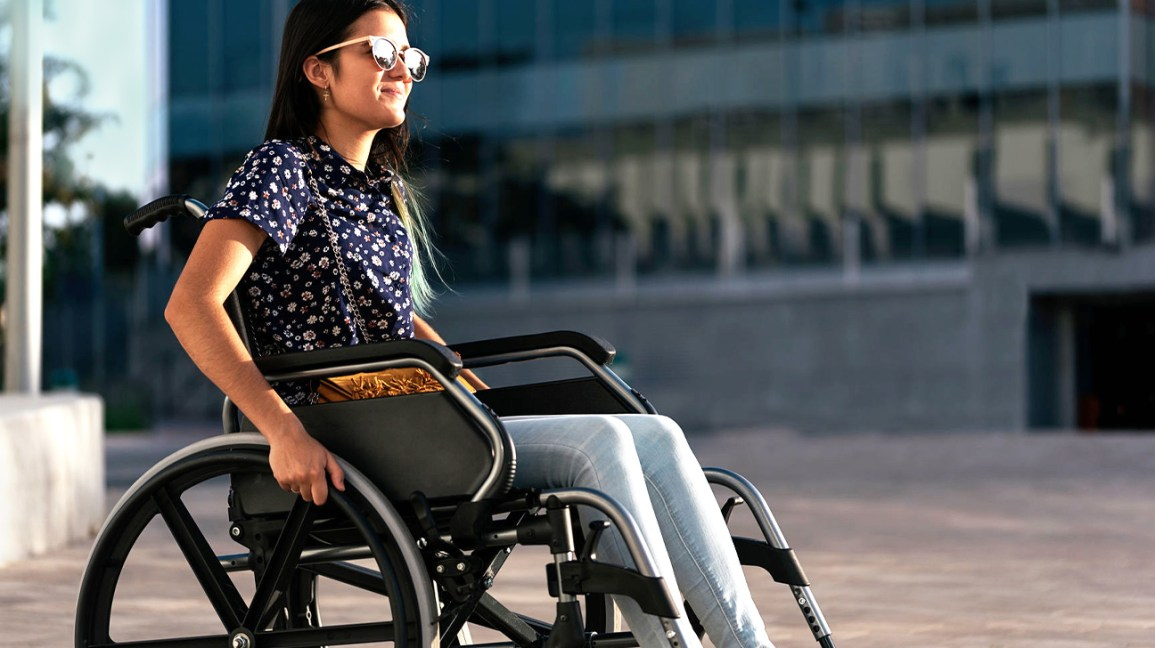wheelchair: (77, 7, 835, 648)
